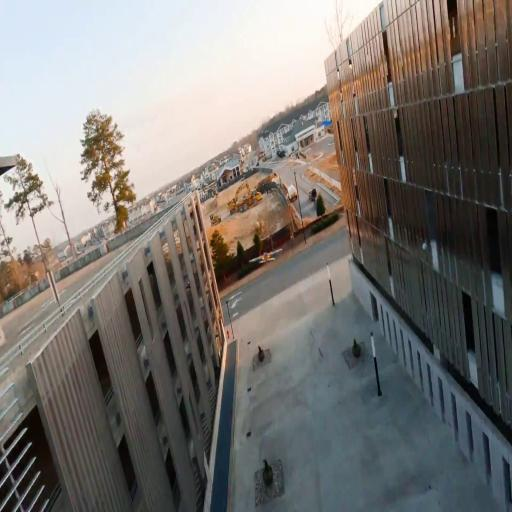uav: (247, 245, 285, 268)
